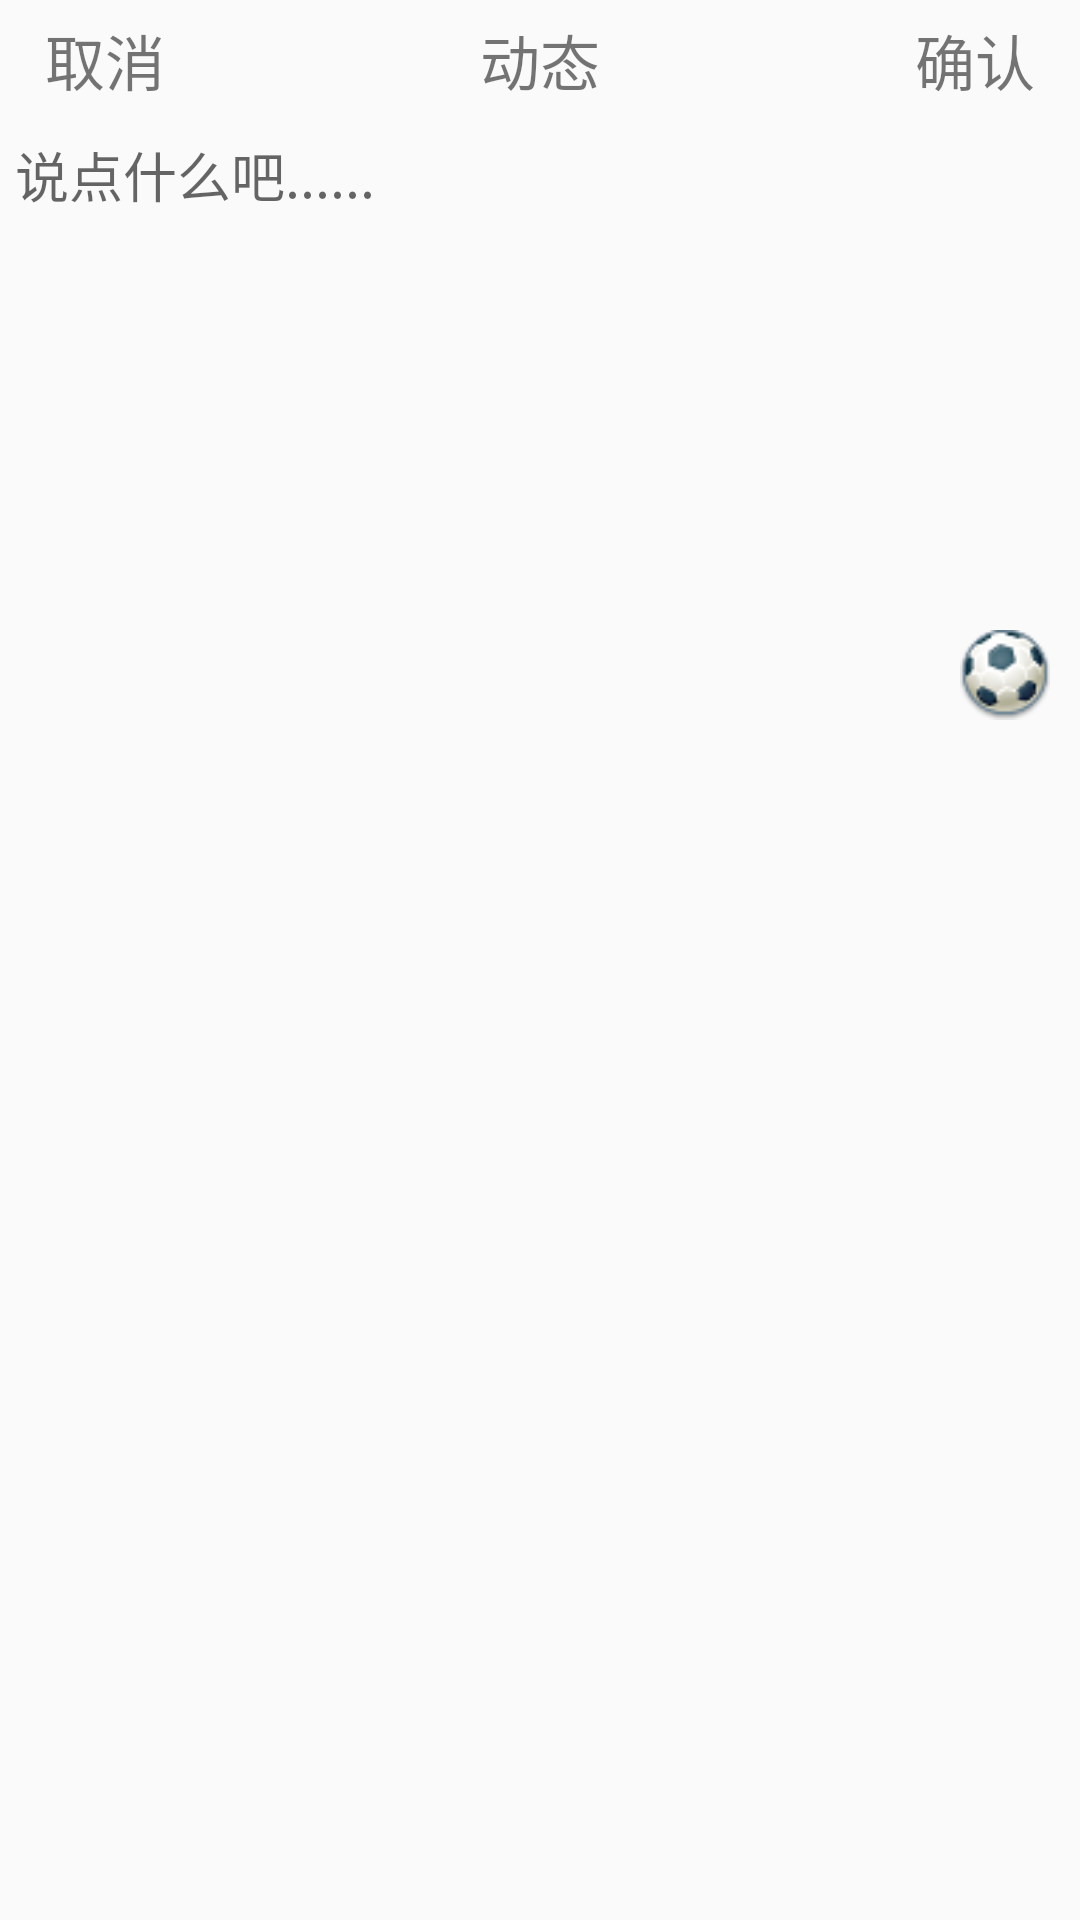

Named icons in this screenshot (1080 × 1920) and their centers, (x,y):
sport: (1005,674)
